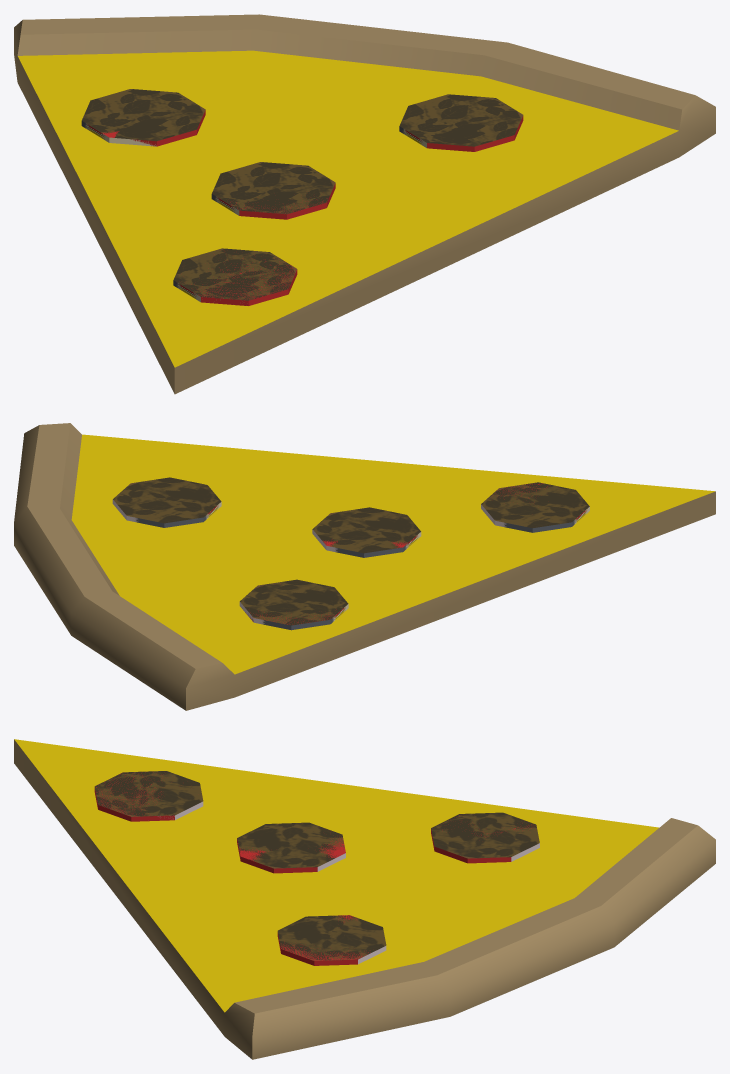
Rendered from pizza slice.fbx.
3 views of the same model, one above another, from view 1: azimuth 30°, elevation 25°; view 2: azimuth 150°, elevation 25°; view 3: azimuth 270°, elevation 25° (orthographic). The views are drawn at different scales.
Parts seen in each view (by area): view 1: Cylinder.004; view 2: Cylinder.004; view 3: Cylinder.004.
Part boxes in pixels (x1=…): Cylinder.004: x1=14, y1=14, x2=715, y2=394; Cylinder.004: x1=14, y1=423, x2=715, y2=710; Cylinder.004: x1=14, y1=739, x2=715, y2=1059.
Bounding box in the file's own units: 44.67 × 2.66 × 44.69.
